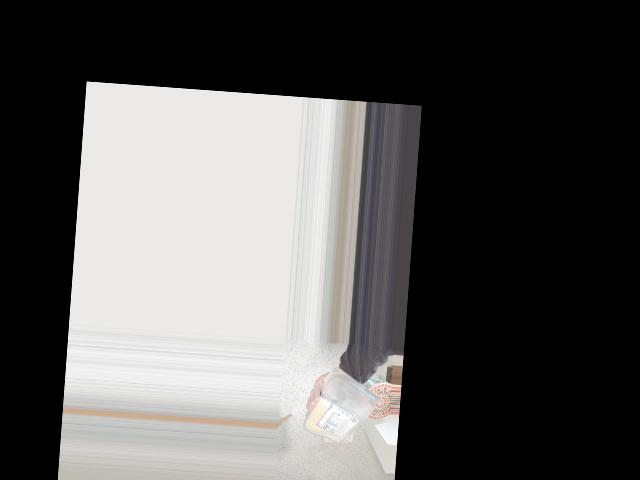cheese: (311, 376, 381, 450)
